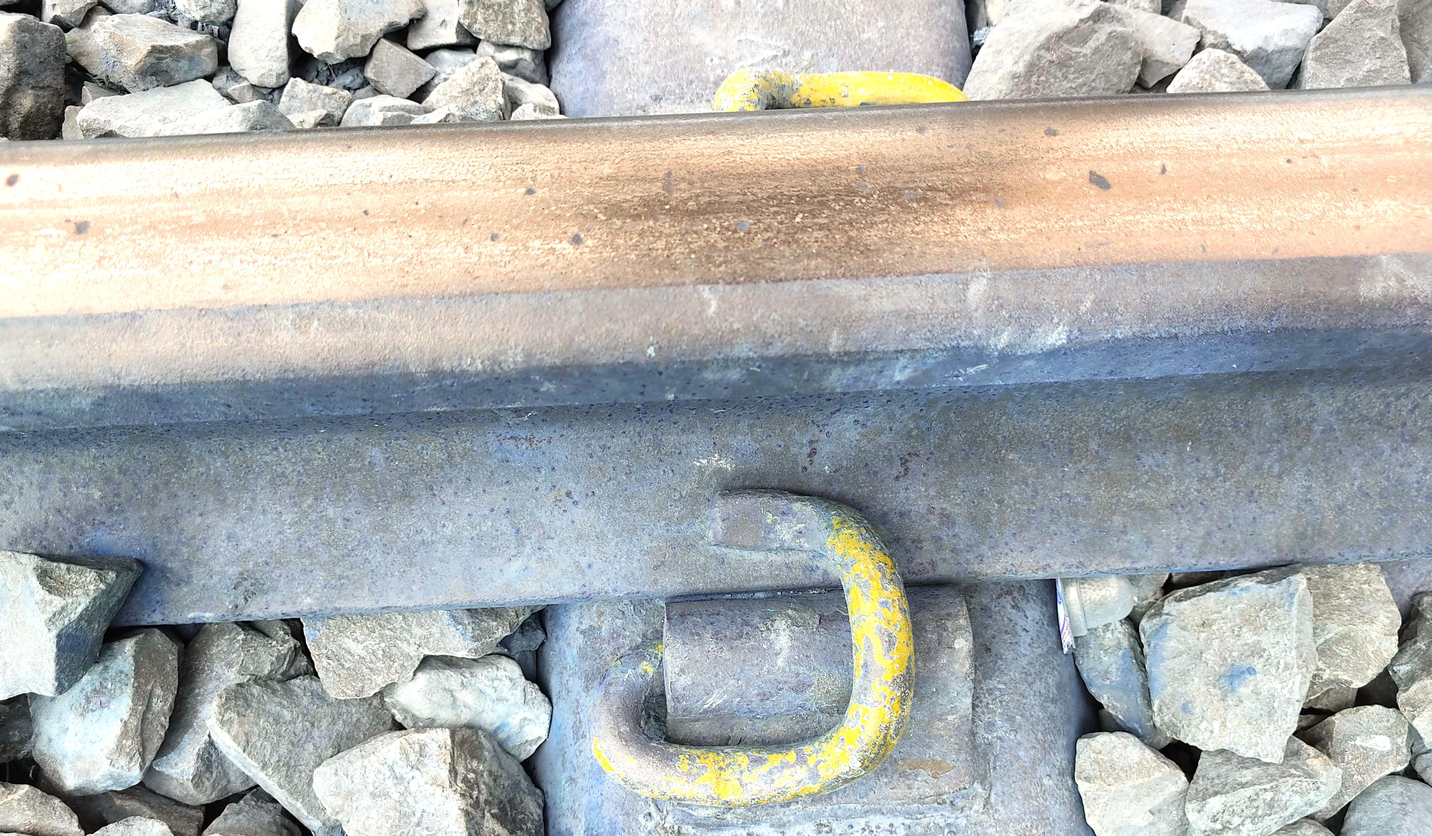Poor contact: (587, 486, 937, 800), (711, 60, 981, 125)
